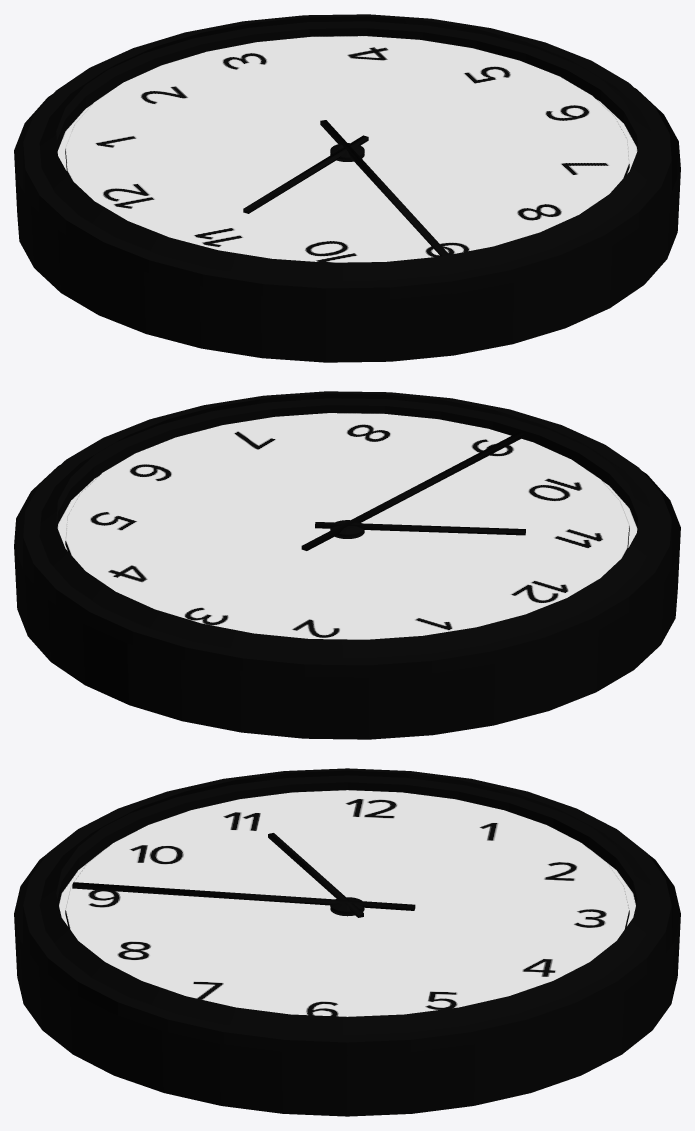
Rendered from ClockSolid.fbx.
The picture shows the model from 3 angles, top to bottom: view 1: azimuth 30°, elevation 25°; view 2: azimuth 150°, elevation 25°; view 3: azimuth 270°, elevation 25°; orthographic projection.
Visible parts, largest first — view 1: CLOCK BASE, Plane; view 2: CLOCK BASE, Plane; view 3: CLOCK BASE, Plane.
Boxes of the visible parts, bbox=[...] form: CLOCK BASE: bbox=[14, 14, 680, 362]; Plane: bbox=[243, 120, 449, 256]; CLOCK BASE: bbox=[14, 391, 680, 739]; Plane: bbox=[301, 432, 525, 550]; CLOCK BASE: bbox=[14, 768, 680, 1116]; Plane: bbox=[72, 833, 415, 917].
Bounding box in the file's own units: 206 × 28.77 × 206.
